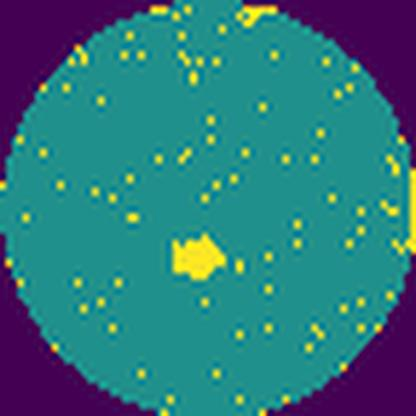Edge-Loc: (170, 232, 230, 281)
